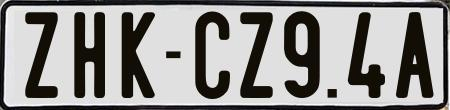4: (346, 10, 388, 96)
9: (283, 10, 319, 102)
A: (396, 9, 437, 99)
C: (195, 10, 230, 103)
H: (71, 12, 104, 103)
K: (121, 11, 155, 103)
Z: (24, 12, 60, 104), (237, 10, 272, 98)
